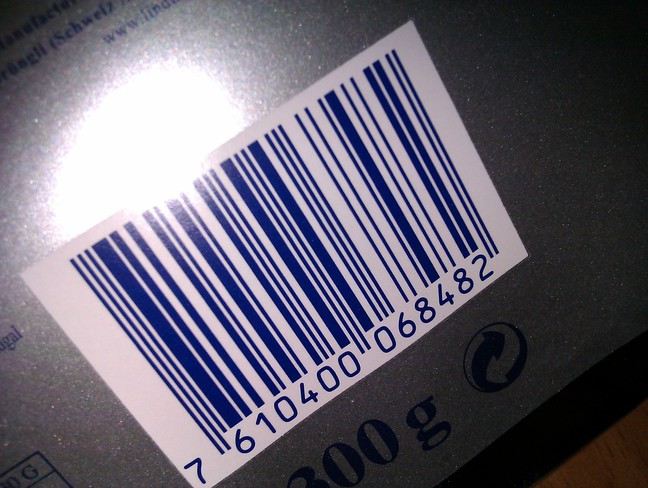barcode: (36, 44, 537, 478)
